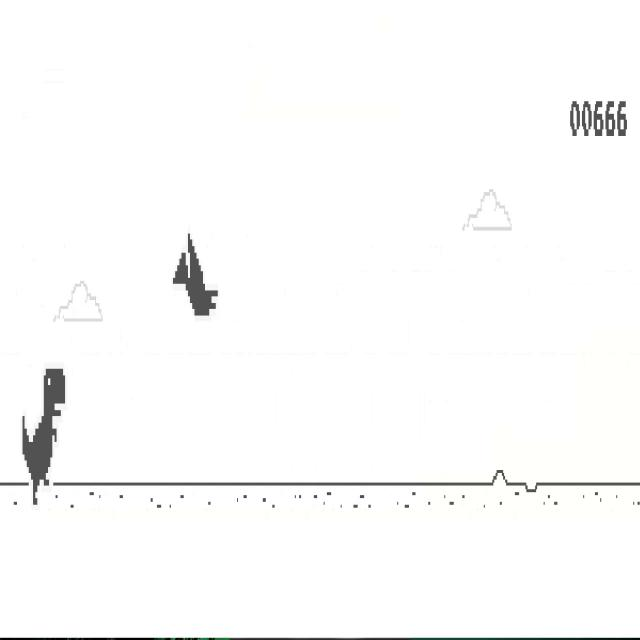dino: (22, 368, 66, 507)
ptero: (172, 231, 218, 317)
